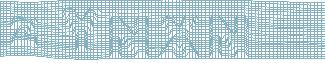N: (106, 15, 151, 59), (207, 14, 249, 60)
X: (157, 15, 200, 59)
Y: (61, 7, 97, 54)
z: (8, 16, 39, 48)
